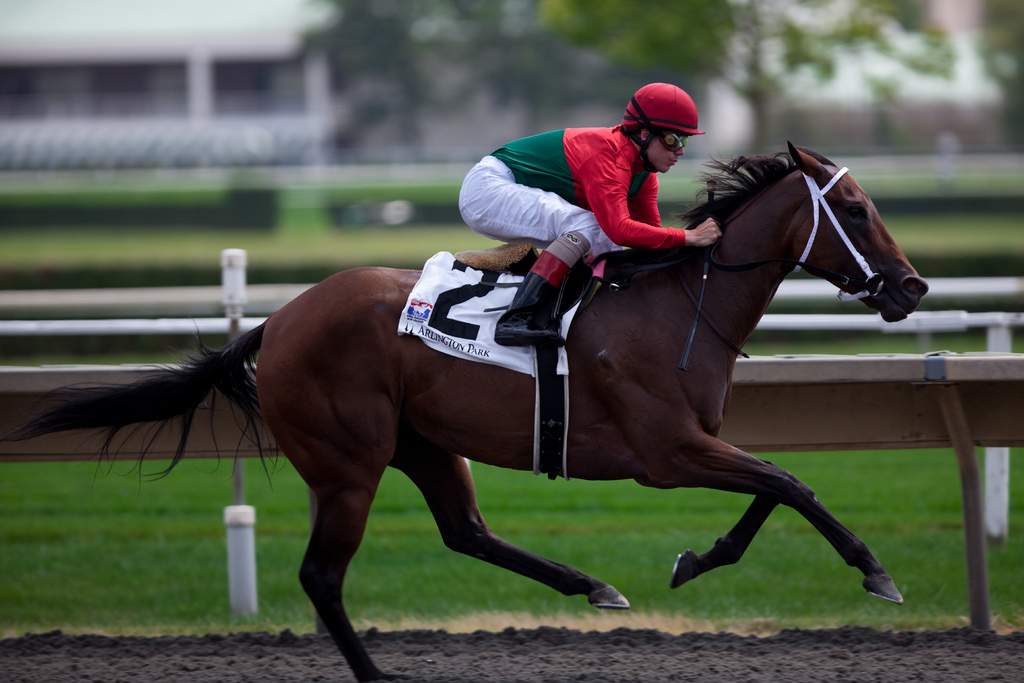horse: (0, 139, 928, 682)
